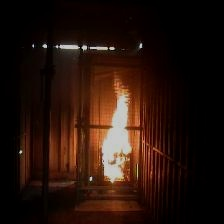fire: (98, 76, 138, 181)
